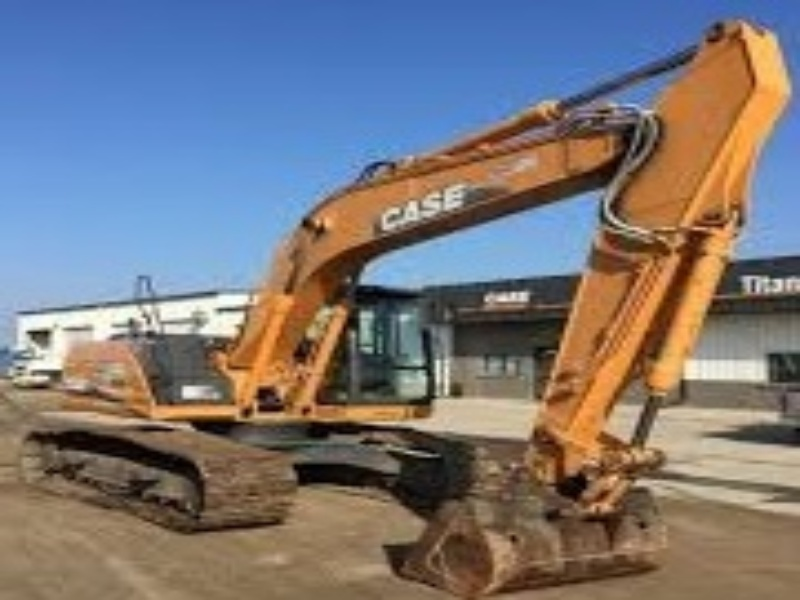wajueji: (8, 224, 671, 577)
